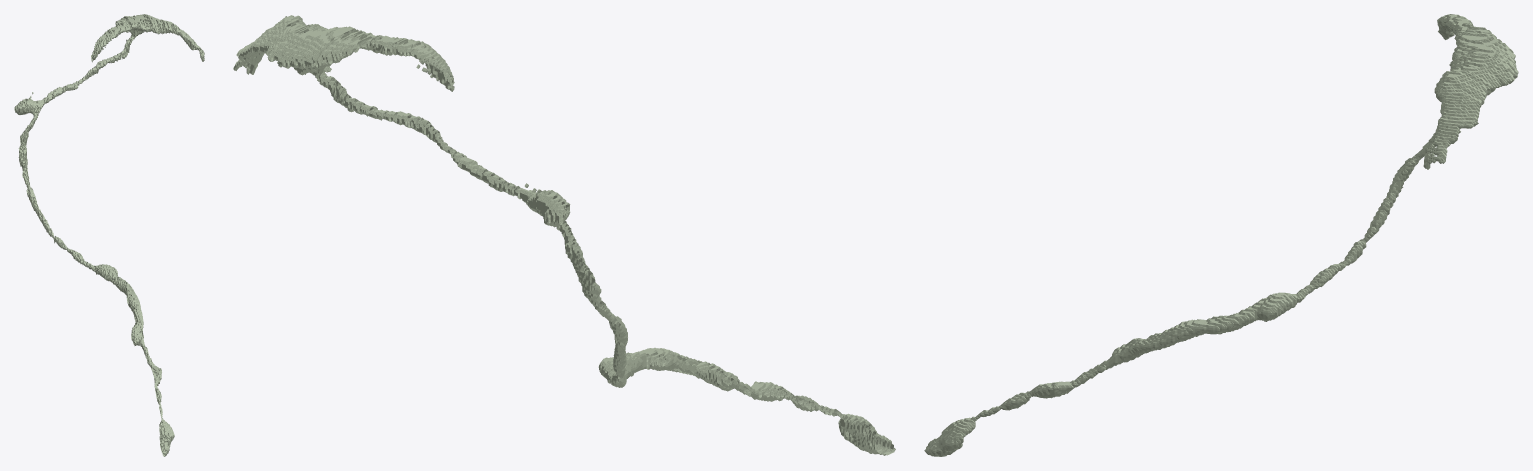
Rendered from SVV_RID.gltf.
The picture shows the model from 3 angles, left to right: view 1: azimuth 30°, elevation 25°; view 2: azimuth 150°, elevation 25°; view 3: azimuth 270°, elevation 25°; orthographic projection. The views are drawn at different scales.
Visible parts, largest first — view 1: RID; view 2: RID; view 3: RID.
Part boxes in pixels (x1,y1,x2,y2): RID: [14, 14, 204, 456]; RID: [233, 15, 895, 455]; RID: [924, 14, 1518, 456].
Size of the model in its own units: 109036 by 165564 by 171426.
